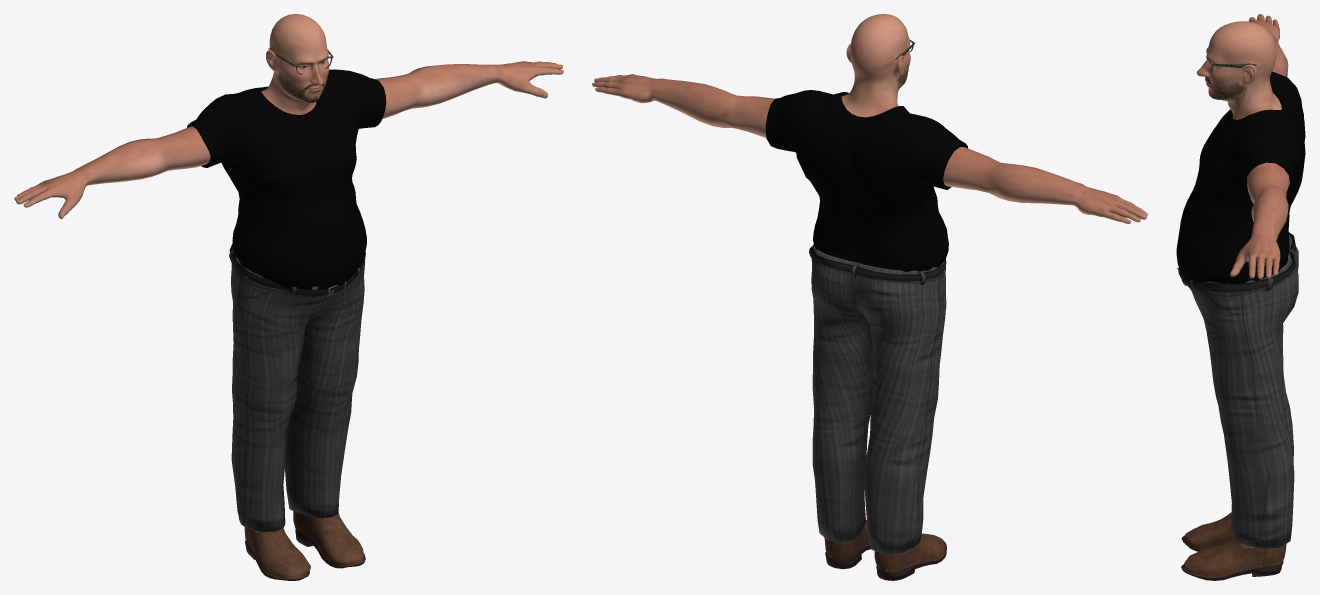
The model's file is Tode_ish.fbx.
The picture shows the model from 3 angles, left to right: view 1: azimuth 30°, elevation 25°; view 2: azimuth 150°, elevation 25°; view 3: azimuth 270°, elevation 25°; orthographic projection.
Parts seen in each view (by area): view 1: body, t_shirt; view 2: body, t_shirt; view 3: body, t_shirt.
Boxes of the visible parts, box(x1,y1,x2,y2) form: body: box(14, 14, 563, 580); t_shirt: box(187, 69, 386, 289); body: box(592, 14, 1147, 580); t_shirt: box(765, 90, 968, 271); body: box(1177, 14, 1298, 580); t_shirt: box(1176, 71, 1305, 283).
Bounding box in the file's own units: 198 × 186 × 40.73.
